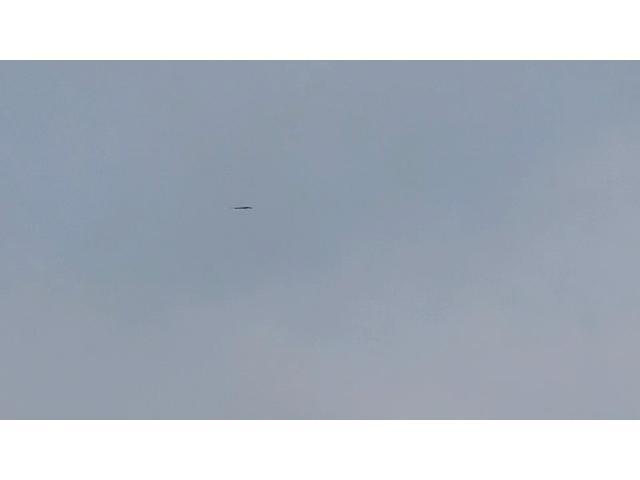Anti-Drone: (232, 204, 254, 212)
